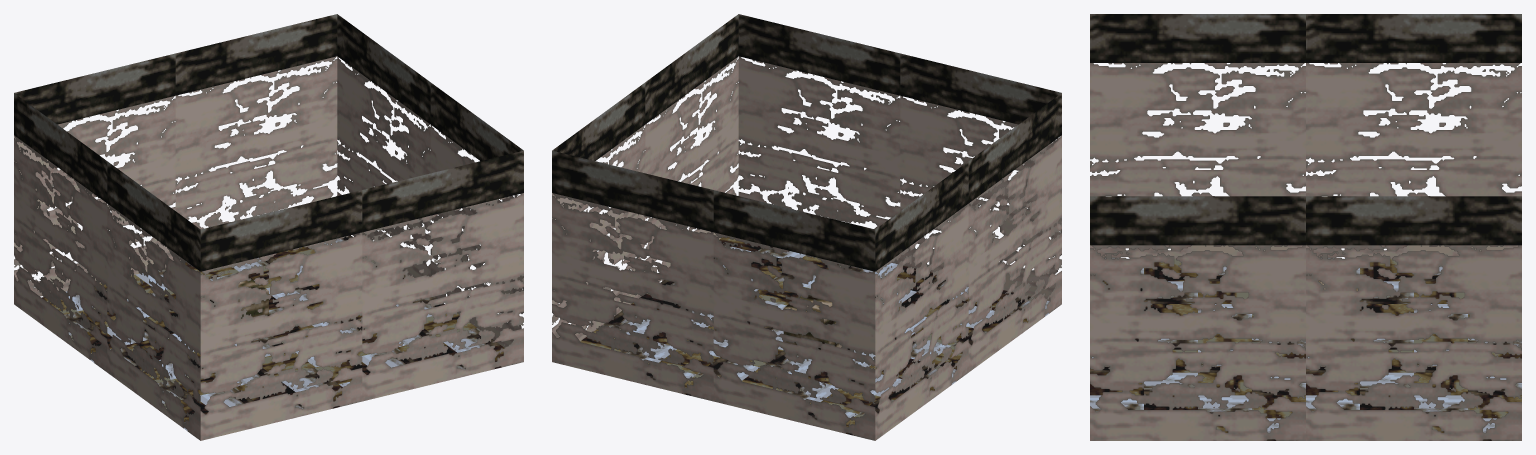
Rendered from MAP064.obj.
3 renders of one model, left to right at view 1: azimuth 30°, elevation 25°; view 2: azimuth 150°, elevation 25°; view 3: azimuth 270°, elevation 25°, orthographic. The views are drawn at different scales.
Visible parts, largest first — view 1: mesh_4, mesh_3, mesh_0, mesh_1, mesh_2; view 2: mesh_4, mesh_3, mesh_1, mesh_0, mesh_2; view 3: mesh_4, mesh_3, mesh_0, mesh_1.
Boxes of the visible parts, x1,y1,x2,y2 form: mesh_4: [14, 56, 523, 440]; mesh_3: [14, 14, 523, 271]; mesh_0: [42, 246, 504, 421]; mesh_1: [64, 235, 499, 430]; mesh_2: [210, 276, 268, 318]; mesh_4: [552, 56, 1061, 440]; mesh_3: [552, 14, 1061, 271]; mesh_1: [602, 244, 1049, 419]; mesh_0: [580, 237, 1028, 435]; mesh_2: [783, 295, 842, 349]; mesh_4: [1090, 63, 1521, 440]; mesh_3: [1090, 14, 1521, 245]; mesh_0: [1090, 258, 1521, 432]; mesh_1: [1090, 258, 1521, 440].
Size of the model in its own units: 102 by 64 by 102.
Materials: 5 (5 with a texture image).
